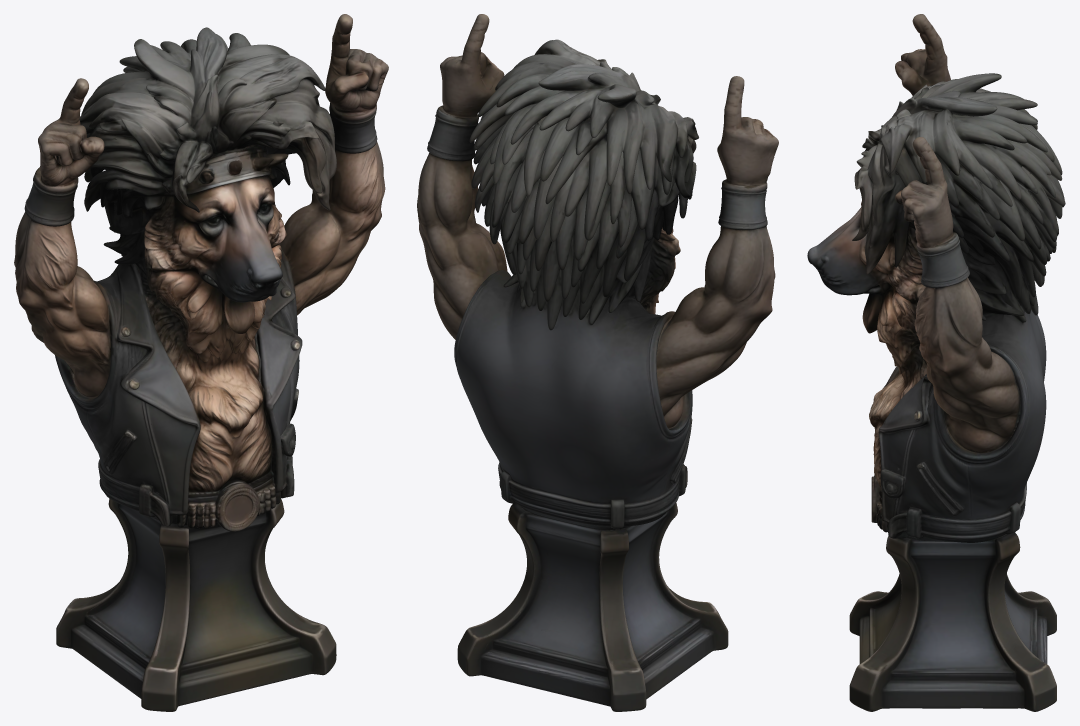
The model's file is commissionerwurstinger.glb.
3 views of the same model, side by side, from view 1: azimuth 30°, elevation 25°; view 2: azimuth 150°, elevation 25°; view 3: azimuth 270°, elevation 25° (orthographic). The views are drawn at different scales.
Parts seen in each view (by area): view 1: node_0; view 2: node_0; view 3: node_0.
Boxes of the visible parts, box(x1,y1,x2,y2) form: node_0: box(14, 14, 388, 711); node_0: box(417, 14, 778, 711); node_0: box(807, 14, 1065, 711).
Size of the model in its own units: 0.6675 by 1.09 by 0.4316.
1 material, 1 textured.
